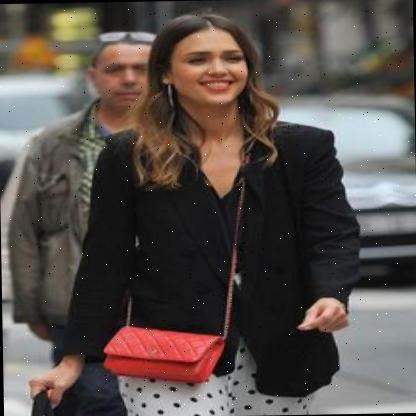bag: (96, 318, 230, 392)
person: (74, 5, 362, 416), (0, 13, 177, 340)
